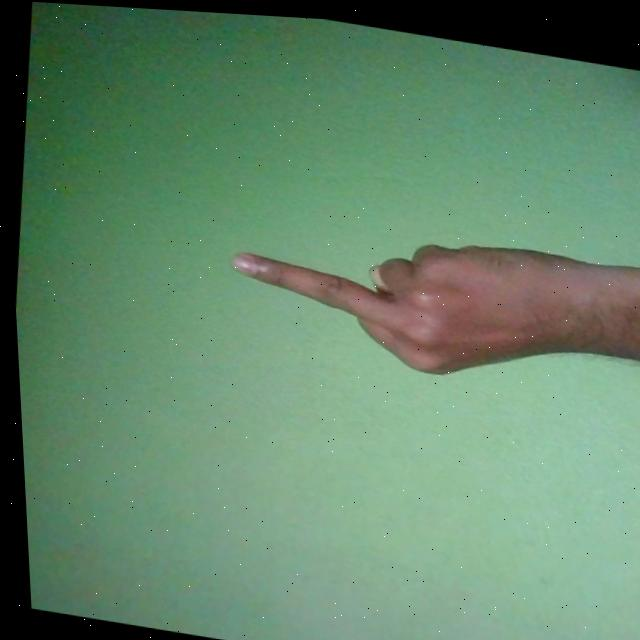Middle Finger: (216, 198, 640, 399)
